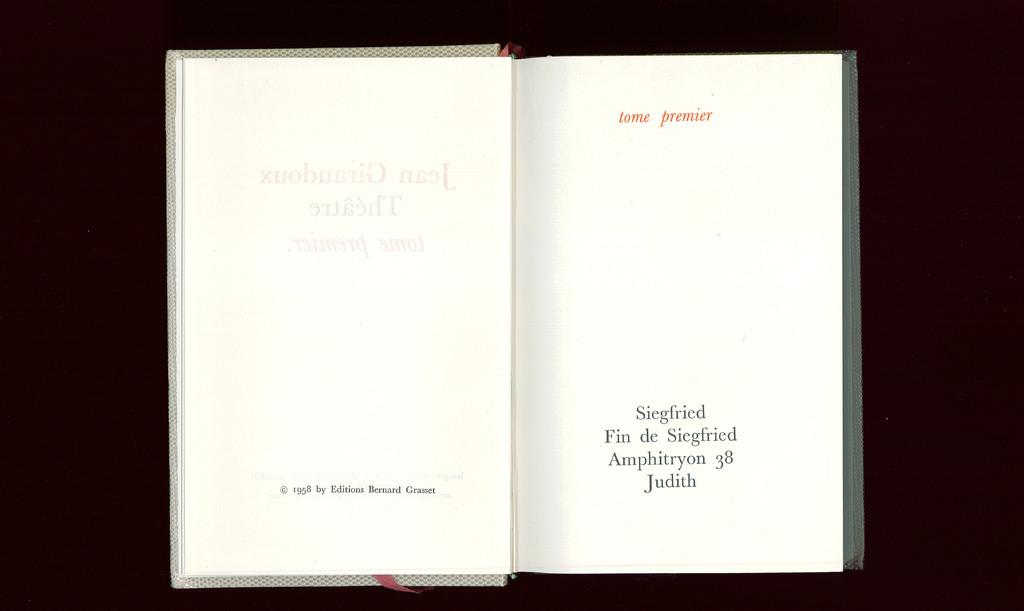book: (166, 37, 866, 585)
